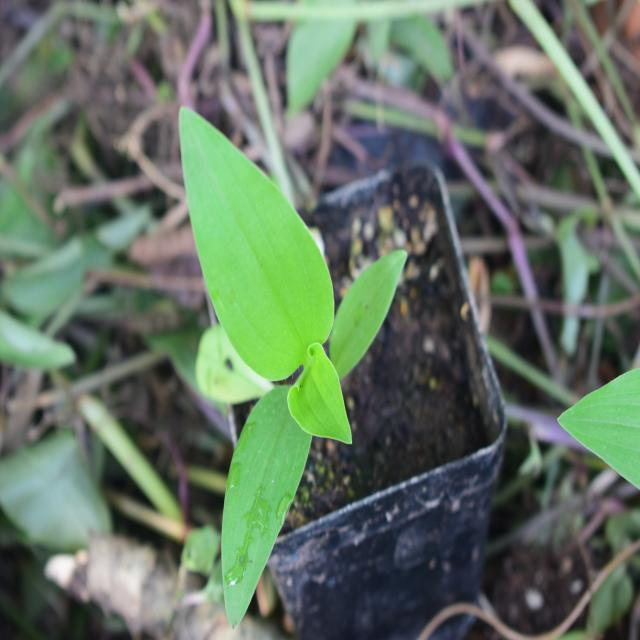Common Dayflower: (146, 98, 407, 570)
